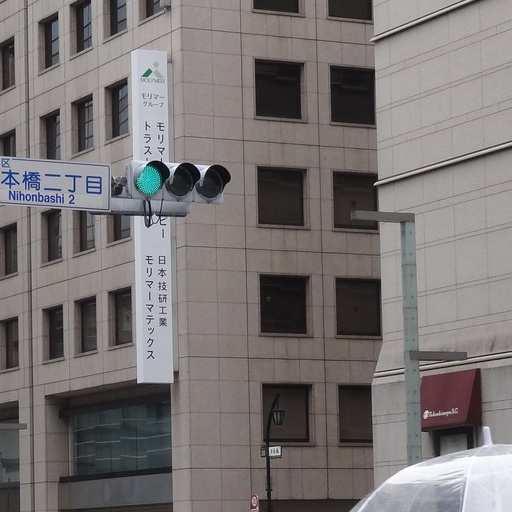Traffic_Signal_Blue: (128, 156, 226, 205)
